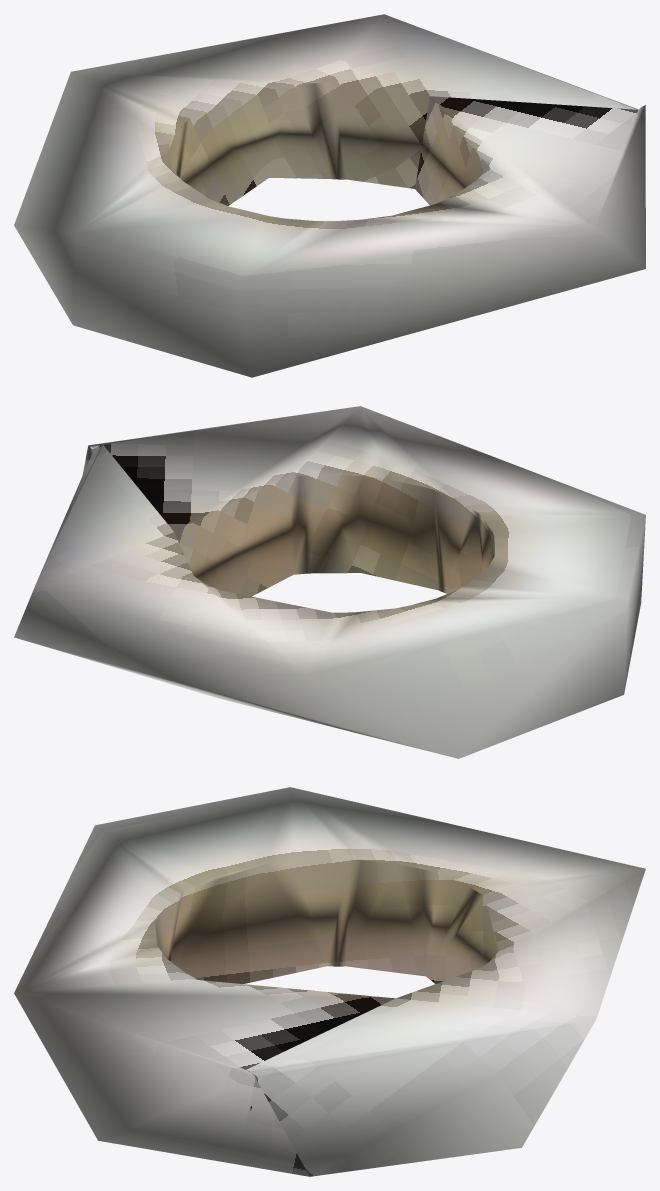
Rendered from 3M_Antislip_Surfacing_Light_Duty_White-low.glb.
3 views of the same model, one above another, from view 1: azimuth 30°, elevation 25°; view 2: azimuth 150°, elevation 25°; view 3: azimuth 270°, elevation 25° (orthographic). The views are drawn at different scales.
Visible parts, largest first — view 1: 3M_Antislip_Surfacing_Light_Duty_White; view 2: 3M_Antislip_Surfacing_Light_Duty_White; view 3: 3M_Antislip_Surfacing_Light_Duty_White.
Boxes of the visible parts, left/top/right/bottom form: 3M_Antislip_Surfacing_Light_Duty_White: left=14, top=14, right=645, bottom=377; 3M_Antislip_Surfacing_Light_Duty_White: left=14, top=406, right=645, bottom=758; 3M_Antislip_Surfacing_Light_Duty_White: left=14, top=787, right=645, bottom=1176.
Size of the model in its own units: 0.1534 by 0.0278 by 0.1391.
Materials: 1 (1 with a texture image).
